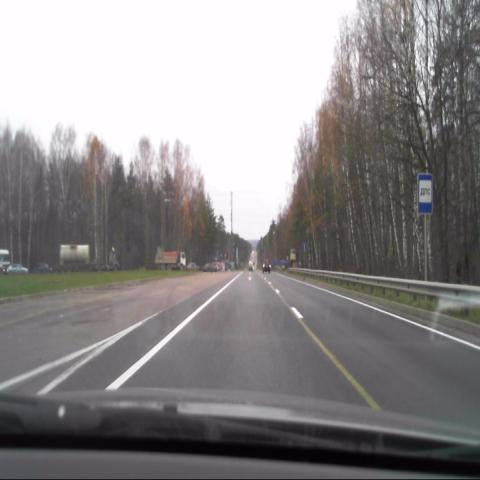7_12: (416, 173, 433, 217)
